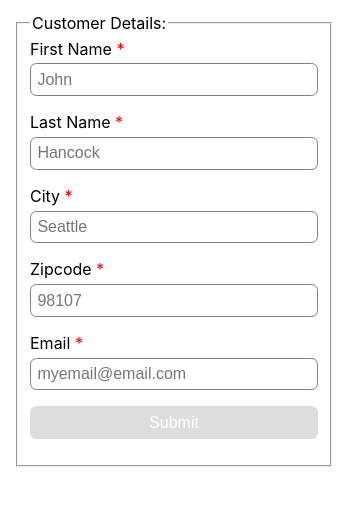
Address Form Email Tests › It renders Address Form Email error if value is not email
The width and height of the screenshot is (349, 515).
In the field with placeholder "myemail@email.com": point(174, 374) [30,358,318,390], type "email@email"
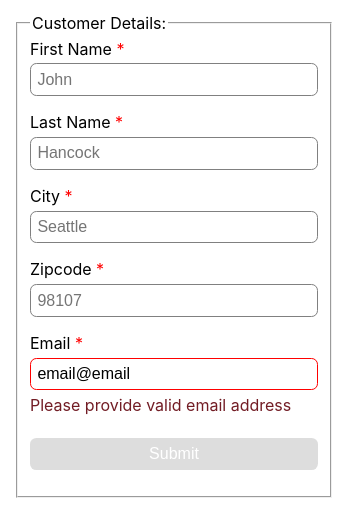
Check: the text "Please provide valid email address" is shown, box [30,395,291,415]
